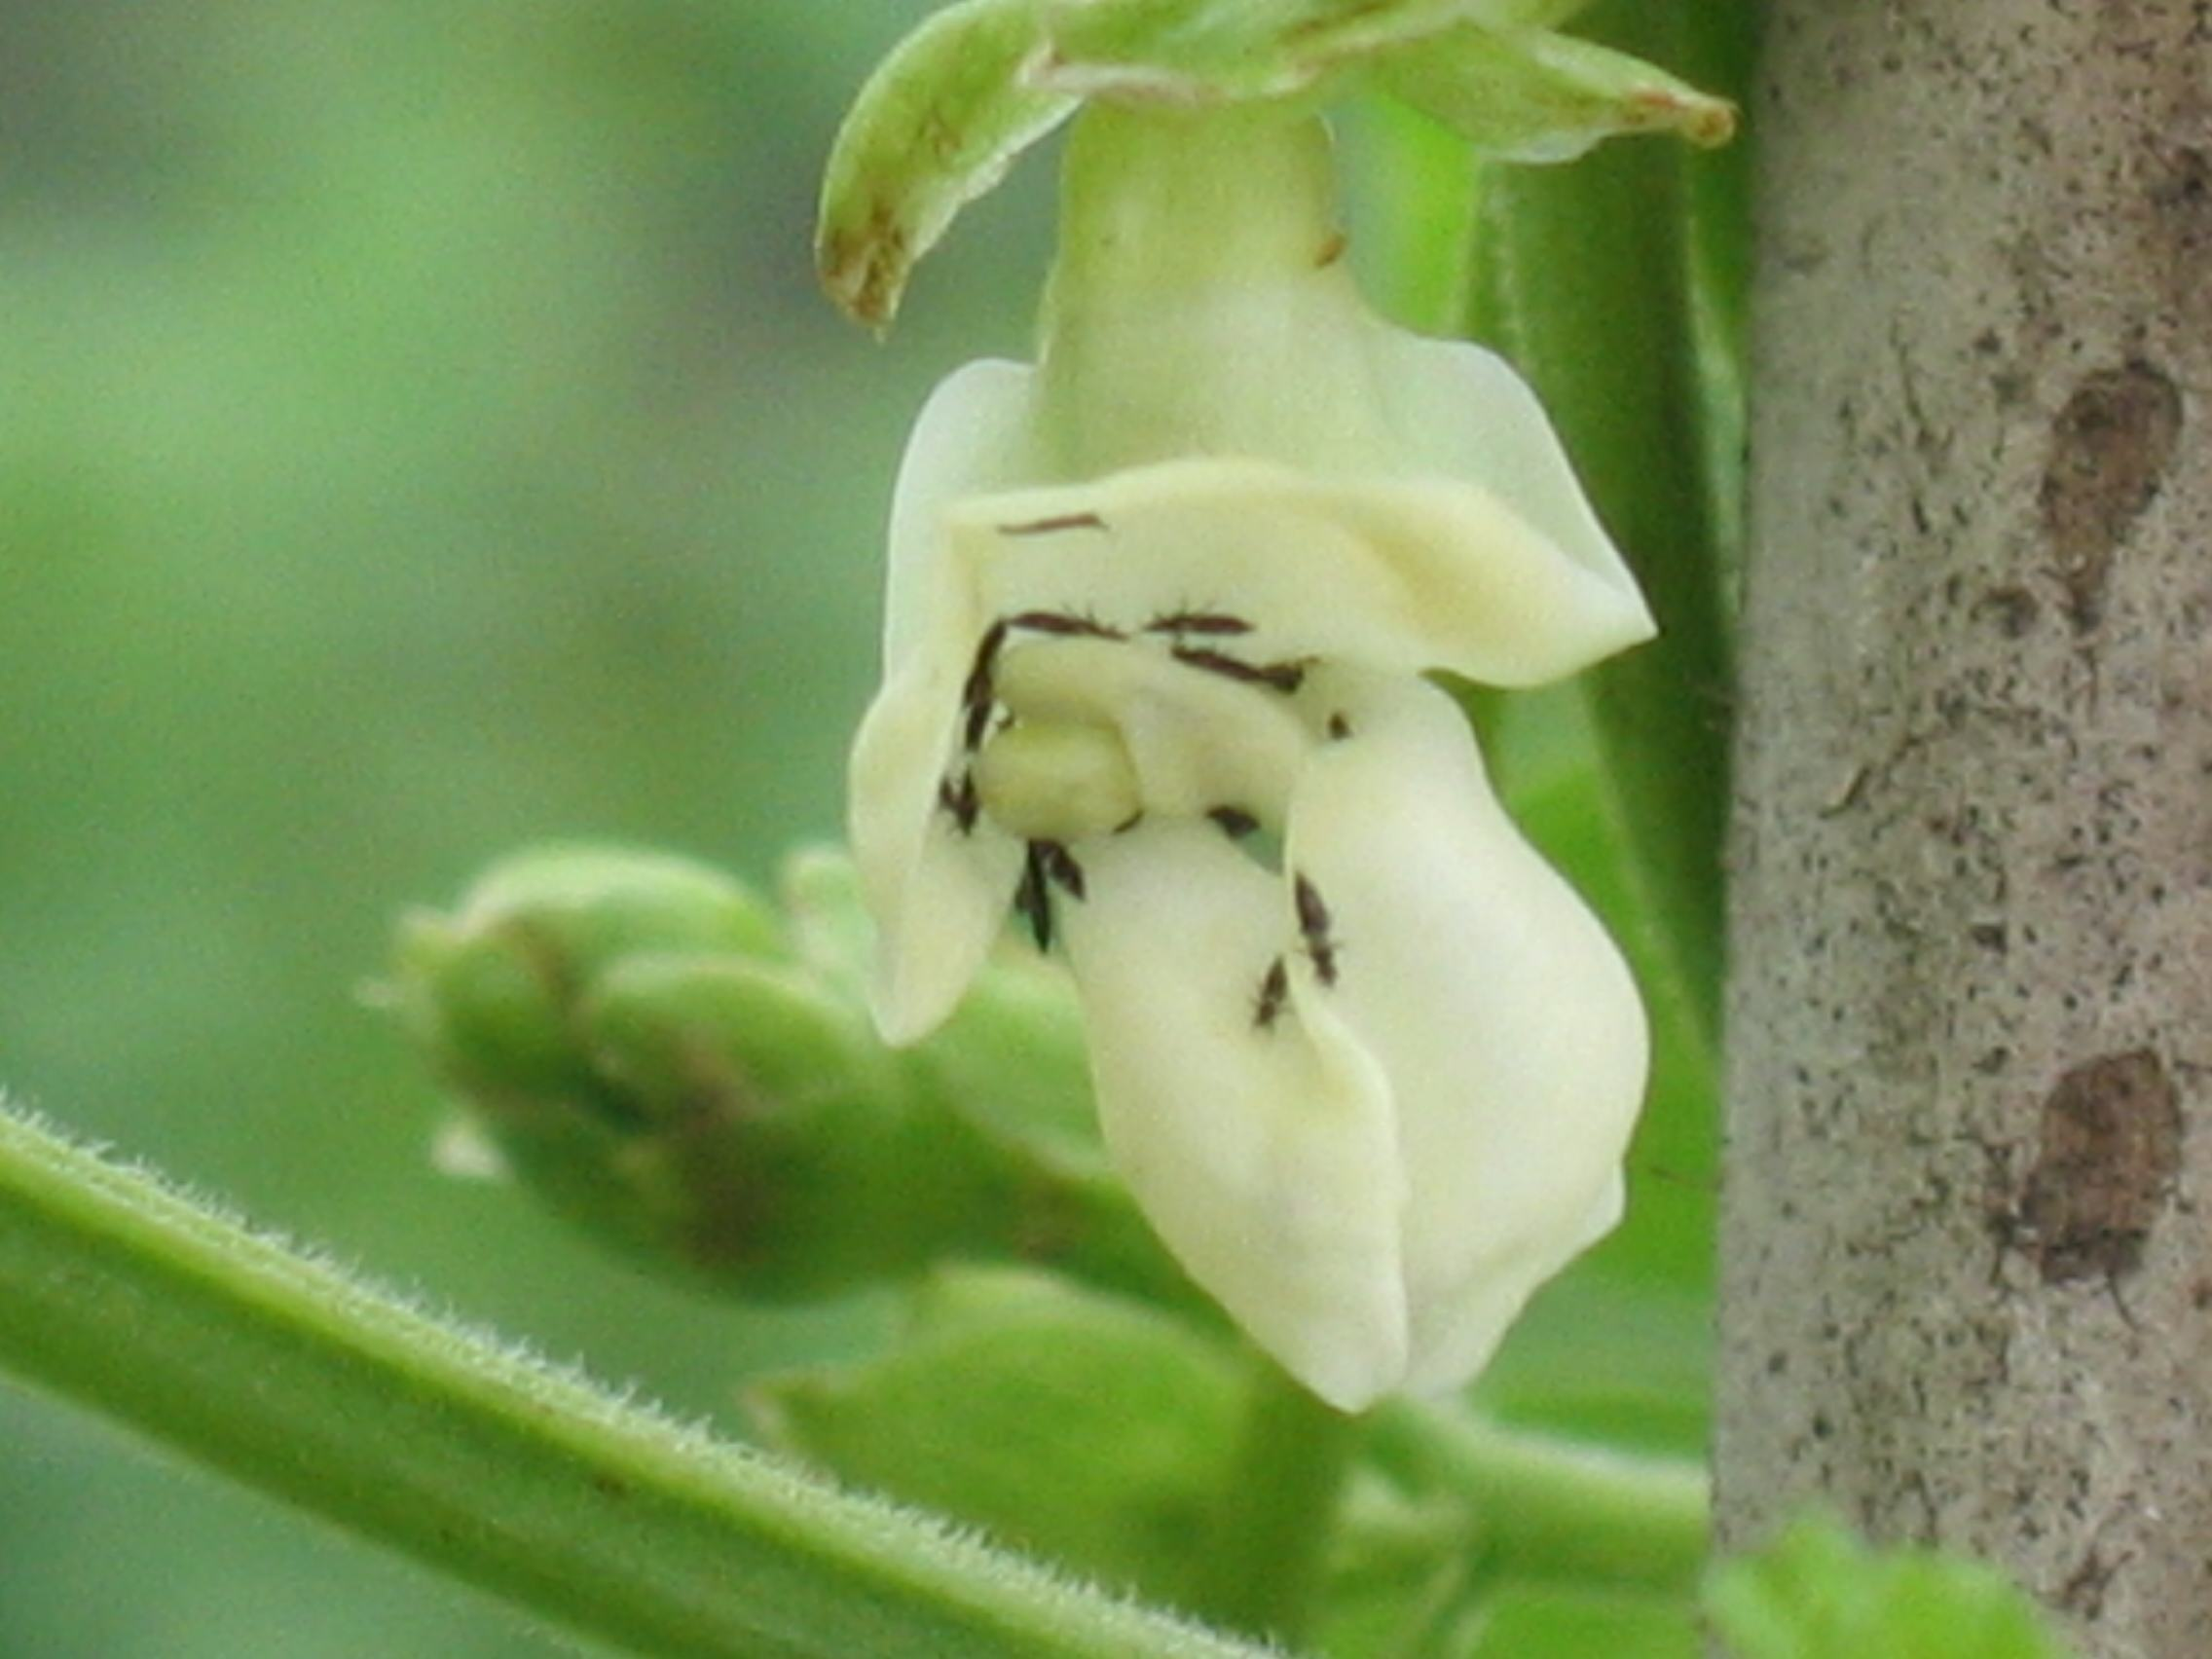thrips: (1019, 831, 1087, 958), (1289, 873, 1348, 988), (1019, 603, 1132, 648), (1148, 598, 1258, 643), (1167, 643, 1268, 690), (956, 622, 1007, 714), (1251, 953, 1291, 1032), (958, 681, 1000, 753), (944, 769, 984, 836)
